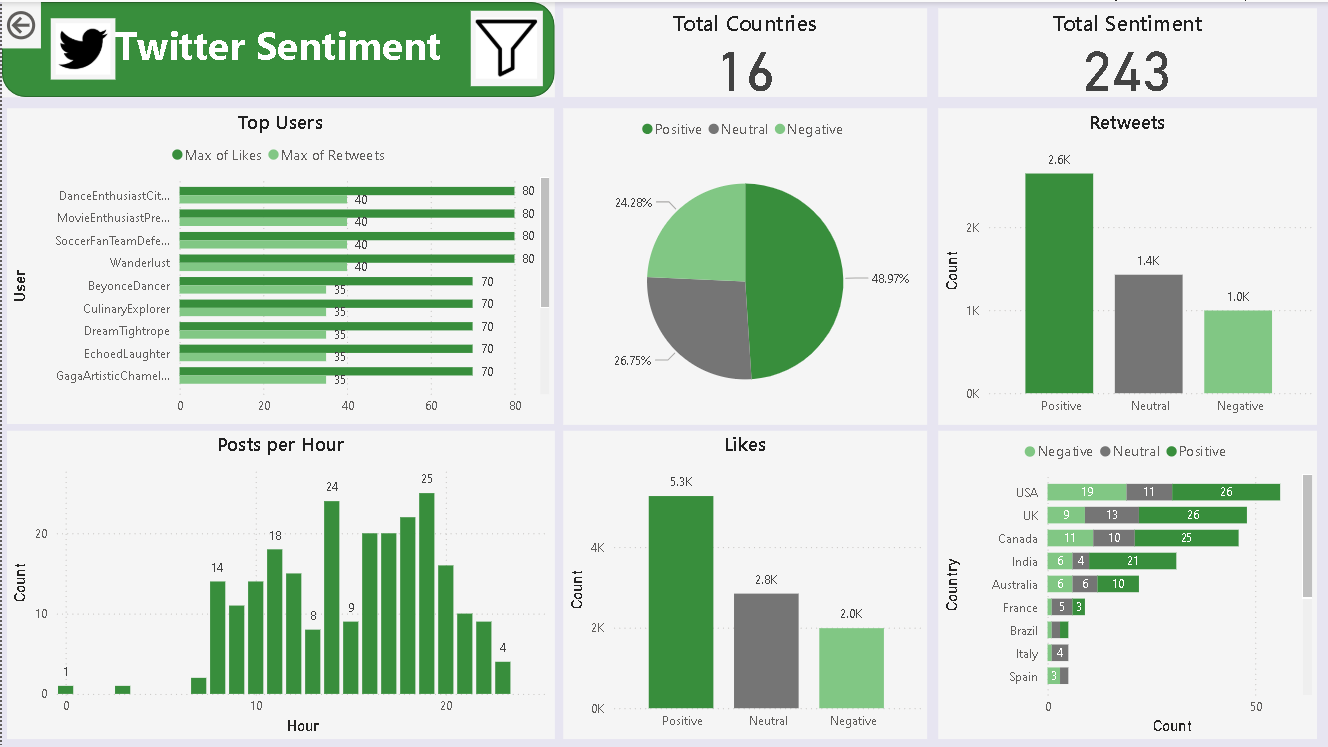

The page's visual inventory and layout, read from the dashboard file:
{"tool":"powerbi","page":{"name":"twitter","canvas":[1280,720],"ordinal":3},"visuals":[{"type":"shape","box":[0,0,533.2,91.7],"z":0},{"type":"pieChart","fields":{"Category":["sentimentdataset.UnifiedSentiment"],"Y":["CountNonNull(sentimentdataset.Column1)"]},"box":[541.7,102.5,351.1,305.2],"z":1000},{"type":"columnChart","title":"Posts per Hour","fields":{"Category":["sentimentdataset.Hour"],"Y":["CountNonNull(sentimentdataset.Column1)"]},"box":[4.8,413.8,528.4,298],"z":2000},{"type":"columnChart","title":"Likes","fields":{"Y":["Sum(sentimentdataset.Likes)"],"Category":["sentimentdataset.UnifiedSentiment"]},"box":[541.7,413.8,351.1,298],"z":3000},{"type":"barChart","fields":{"Category":["sentimentdataset.Country"],"Y":["CountNonNull(sentimentdataset.Column1)"],"Series":["sentimentdataset.UnifiedSentiment"]},"box":[903.6,413.8,365.6,298],"z":4000},{"type":"card","title":"Total Countries","fields":{"Values":["Count(sentimentdataset.Country)"]},"box":[541.7,6,351.1,85.7],"z":5000},{"type":"card","title":"Total Sentiment ","fields":{"Values":["CountNonNull(sentimentdataset.Sentiment)"]},"box":[903.6,6,365.6,85.7],"z":6000},{"type":"clusteredBarChart","title":"Top Users","fields":{"Category":["sentimentdataset.User"],"Y":["Max(sentimentdataset.Likes)","Max(sentimentdataset.Retweets)"]},"box":[5,102,528,305],"z":7000},{"type":"columnChart","title":" Retweets","fields":{"Y":["Sum(sentimentdataset.Retweets)"],"Category":["sentimentdataset.UnifiedSentiment"]},"box":[903.6,102.5,365.6,305.2],"z":8000},{"type":"textbox","box":[93.5,10.4,349.8,67.5],"z":9000},{"type":"image","box":[47.1,15.7,62.7,59.1],"z":10000},{"type":"image","box":[452,8.7,69.3,72.7],"z":11000},{"type":"actionButton","box":[0,0,37.4,44.6],"z":12001}]}

Visuals, with their boxes in screenshot pixels (x1, y1, x2, y2), scaled from the page's 1280x720 canvas onto the 1328x747 screenshot:
shape: [0,0,553,95]
pieChart - sentimentdataset.UnifiedSentiment x CountNonNull(sentimentdataset.Column1): [562,106,926,423]
"Posts per Hour" columnChart: [5,429,553,738]
"Likes" columnChart: [562,429,926,738]
barChart - sentimentdataset.Country x CountNonNull(sentimentdataset.Column1): [937,429,1317,738]
"Total Countries" card: [562,6,926,95]
"Total Sentiment " card: [937,6,1317,95]
"Top Users" clusteredBarChart: [5,106,553,422]
" Retweets" columnChart: [937,106,1317,423]
textbox: [97,11,460,81]
image: [49,16,114,78]
image: [469,9,541,84]
actionButton: [0,0,39,46]
